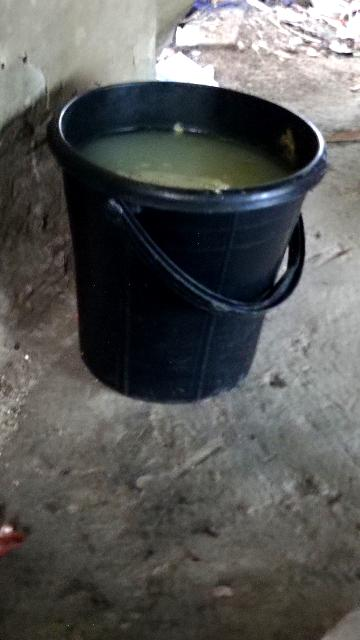hardplastic: (16, 87, 338, 419)
